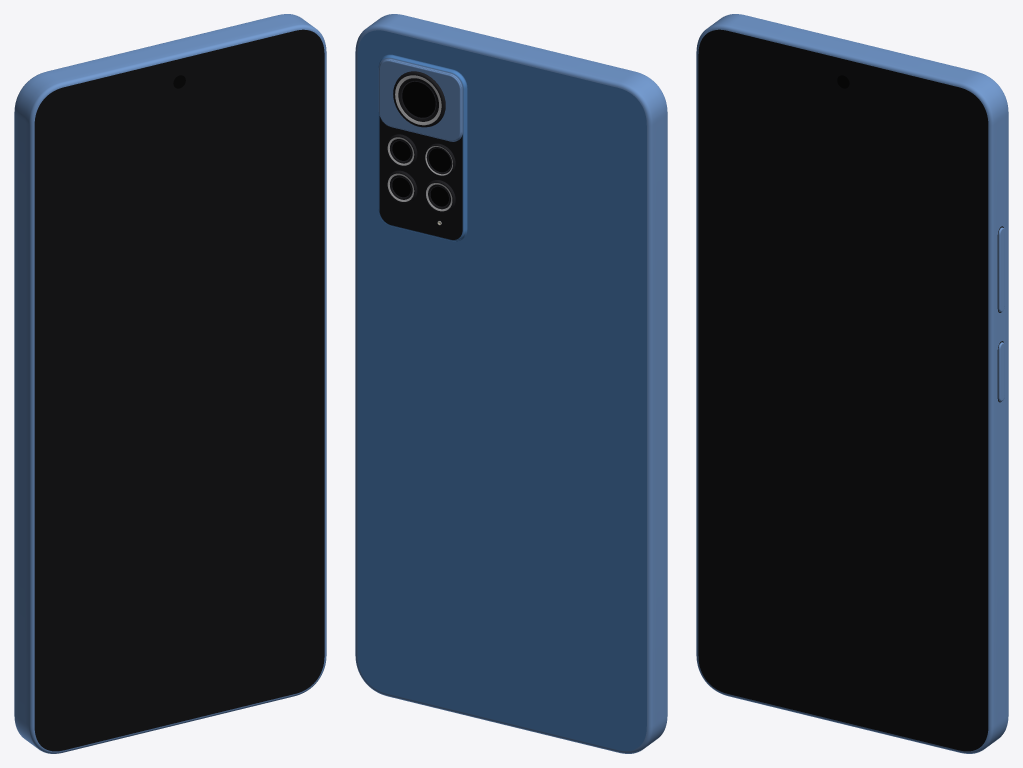
Rendered from poco-x4-pro-5g.glb.
3 renders of one model, left to right at view 1: azimuth 30°, elevation 25°; view 2: azimuth 150°, elevation 25°; view 3: azimuth 330°, elevation 25°, orthographic.
Visible parts, largest first — view 1: body; view 2: body, camera; view 3: body, buttons.
Boxes of the visible parts, left/top/right/bottom form: body: left=14, top=14, right=326, bottom=753; body: left=355, top=14, right=667, bottom=753; camera: left=378, top=54, right=467, bottom=241; body: left=696, top=14, right=1008, bottom=753; buttons: left=997, top=226, right=1004, bottom=402.
Bounding box in the file's own units: 76.53 × 164 × 10.3.
